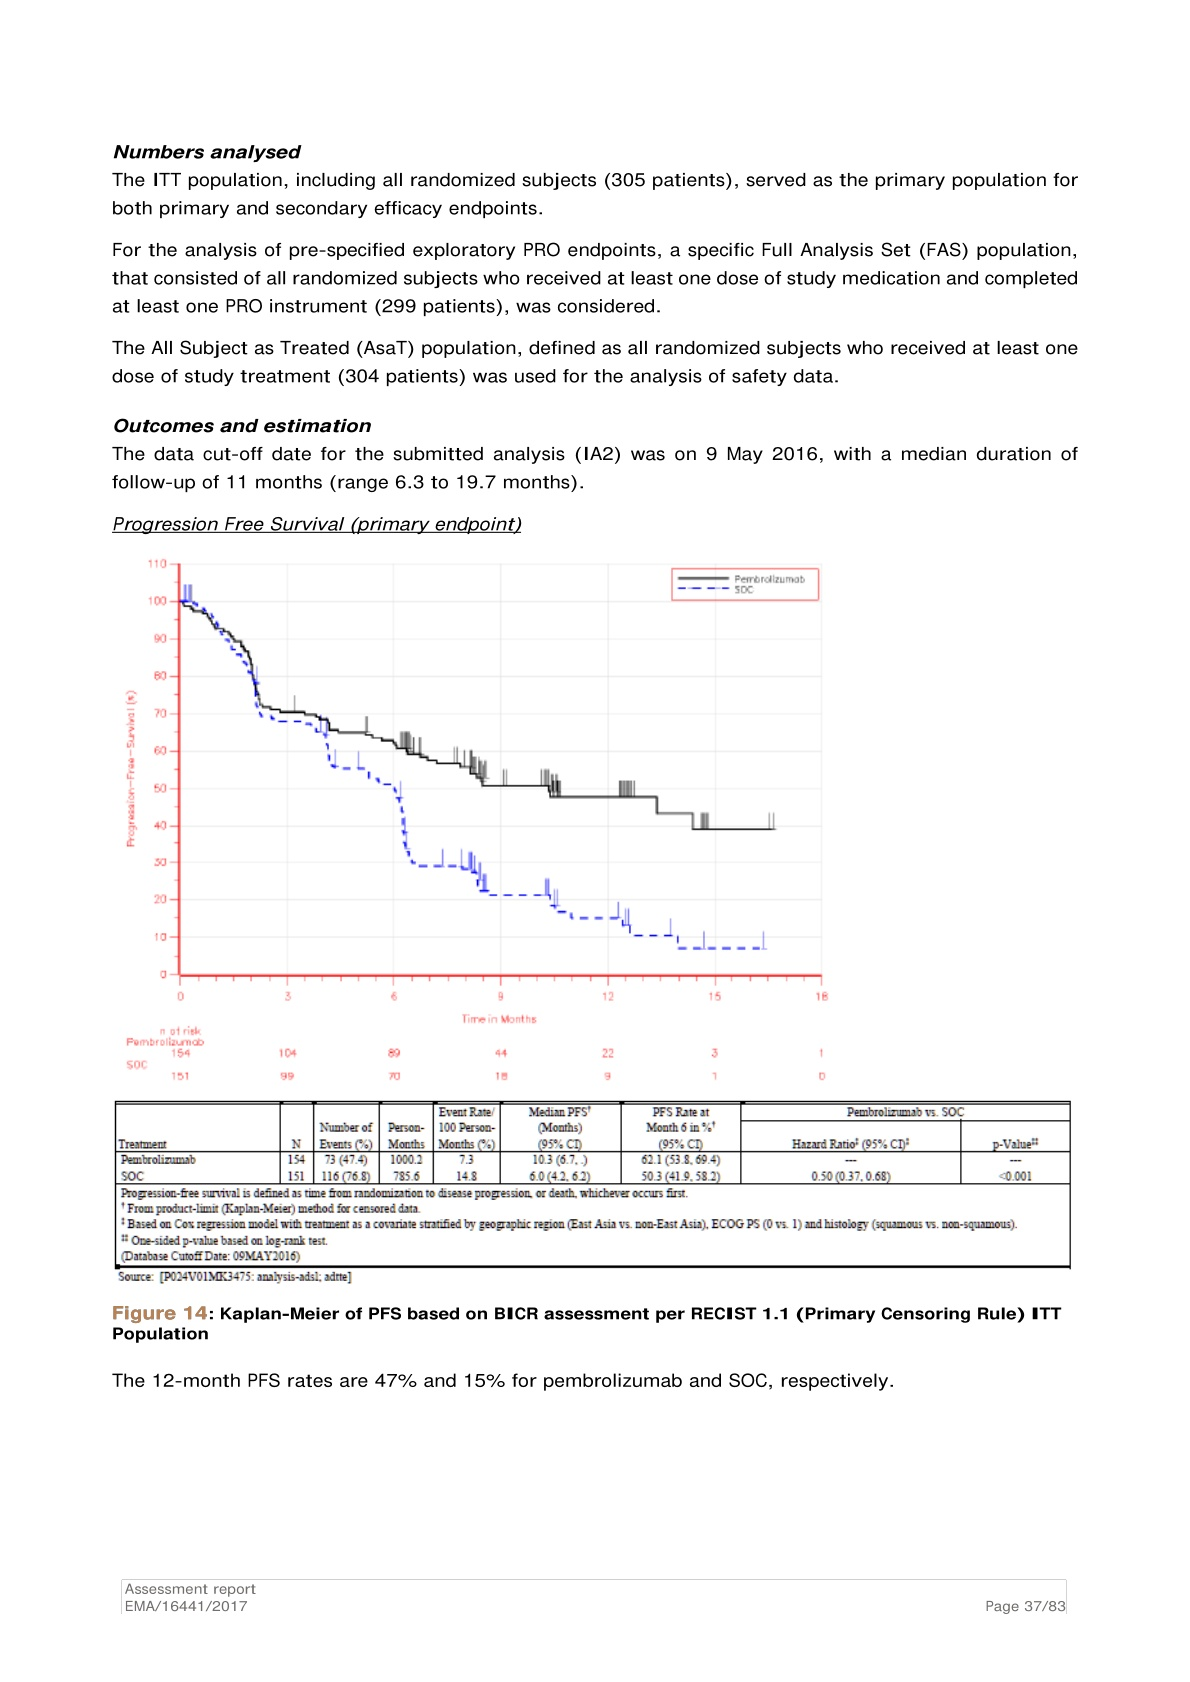merged_cells: (115, 1099, 1072, 1269)
nolines: (124, 1028, 833, 1086)
